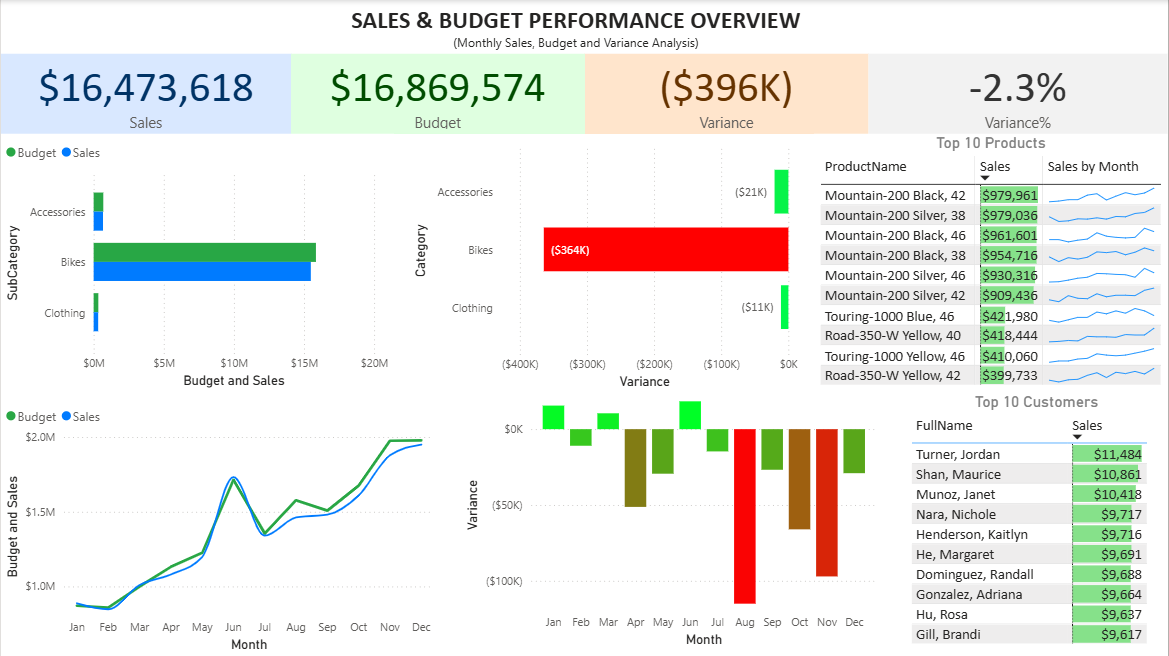

The page's visual inventory and layout, read from the dashboard file:
{"tool":"powerbi","page":{"name":"Page 1","canvas":[1280,720],"ordinal":0},"visuals":[{"type":"textbox","box":[0,0,1261.1,61.7],"z":0},{"type":"card","fields":{"Values":["Budget.Sales"]},"box":[0,58.9,318,87.7],"z":2000},{"type":"card","fields":{"Values":["Budget.Variance"]},"box":[640.1,58.9,311.2,87.7],"z":3000},{"type":"card","fields":{"Values":["Budget.Variance%"]},"box":[951.3,58.9,327.6,87.7],"z":3250},{"type":"card","fields":{"Values":["Budget.Budget"]},"box":[318,58.9,322.1,87.7],"z":3375},{"type":"clusteredBarChart","fields":{"Y":["Budget.Budget","Budget.Sales"],"Category":["Product.Category","Product.SubCategory"]},"box":[0,146.7,430.4,283.7],"z":7000},{"type":"clusteredBarChart","fields":{"Category":["Product.Category","Product.SubCategory"],"Y":["Budget.Variance"]},"box":[446.6,148.3,431.3,274.4],"z":8000},{"type":"lineChart","fields":{"Y":["Budget.Budget","Budget.Sales"],"Category":["Calendar.Month"]},"box":[0,435.9,479.8,283.7],"z":9000},{"type":"clusteredColumnChart","fields":{"Category":["Calendar.Month"],"Y":["Budget.Variance"]},"box":[504.4,423.6,460.6,290.6],"z":10000},{"type":"tableEx","title":"Top 10 Products","fields":{"Values":["Product.ProductName","Budget.Sales","SparklineData(Budget.Sales_[Calendar.Month])"]},"box":[892.4,146.7,386.6,283.7],"z":11000},{"type":"tableEx","title":"Top 10 Customers","fields":{"Values":["Customer.FullName","Budget.Sales"]},"box":[992.4,430.4,286.5,283.7],"z":12000}]}

Visuals, with their boxes in screenshot pixels (x1, y1, x2, y2), scaled from the page's 1280x720 canvas onto the 1169x656 screenshot:
textbox: Rect(0, 0, 1152, 56)
card - Budget.Sales: Rect(0, 54, 290, 134)
card - Budget.Variance: Rect(585, 54, 869, 134)
card - Budget.Variance%: Rect(869, 54, 1168, 134)
card - Budget.Budget: Rect(290, 54, 585, 134)
clusteredBarChart - Budget.Budget x Budget.Sales: Rect(0, 134, 393, 392)
clusteredBarChart - Product.Category x Product.SubCategory: Rect(408, 135, 802, 385)
lineChart - Budget.Budget x Budget.Sales: Rect(0, 397, 438, 655)
clusteredColumnChart - Calendar.Month x Budget.Variance: Rect(461, 386, 881, 651)
"Top 10 Products" tableEx: Rect(815, 134, 1168, 392)
"Top 10 Customers" tableEx: Rect(906, 392, 1168, 651)
